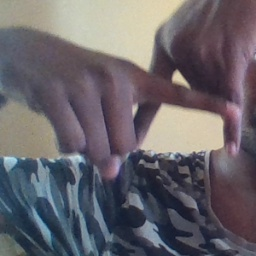H: (119, 23, 256, 160)
